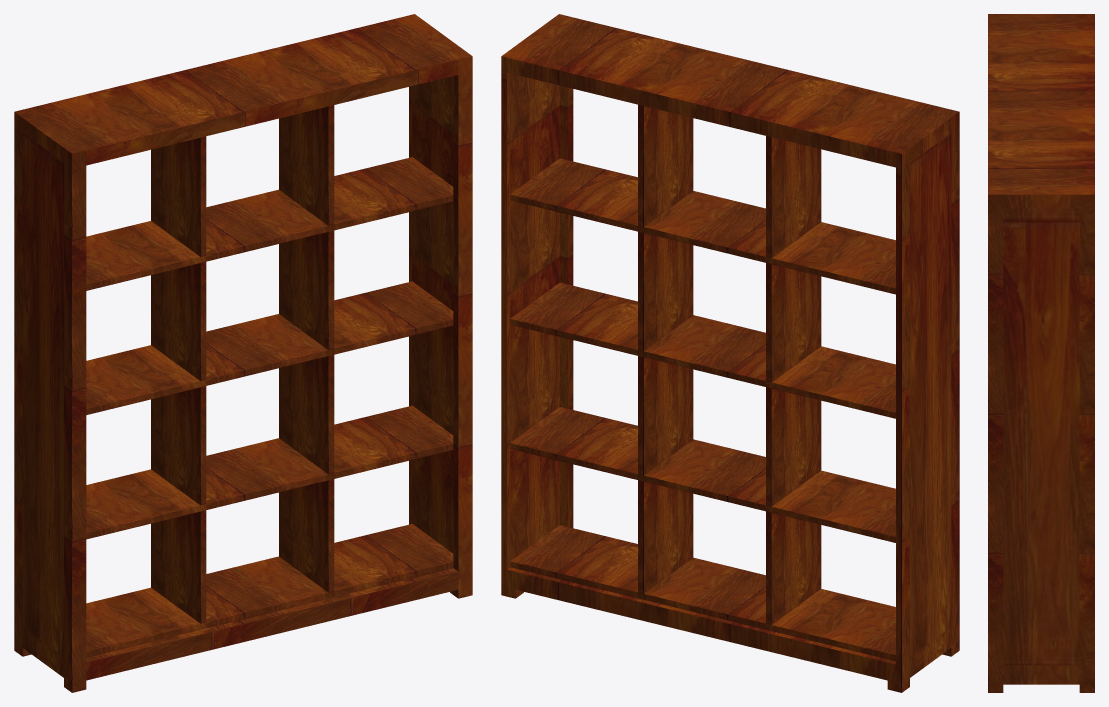
The model's file is kare_shelf.dae.
3 renders of one model, left to right at view 1: azimuth 30°, elevation 25°; view 2: azimuth 150°, elevation 25°; view 3: azimuth 270°, elevation 25°, orthographic. The views are drawn at different scales.
Parts seen in each view (by area): view 1: KARE__Latino_Memat_09, Group1, Group2, Group3, Group4, Group11, Group8, Group12, Group10, Group5, Group7, Group9 (+1 smaller); view 2: KARE__Latino_Memat_09, Group2, Group1, Group4, Group3, Group11, Group8, Group10, Group12, Group5, Group7, Group9 (+1 smaller); view 3: KARE__Latino_Memat_09.
Boxes of the visible parts, bbox=[...] form: KARE__Latino_Memat_09: bbox=[14, 14, 472, 692]; Group1: bbox=[86, 405, 453, 539]; Group2: bbox=[86, 524, 453, 657]; Group3: bbox=[86, 157, 453, 290]; Group4: bbox=[86, 281, 453, 414]; Group11: bbox=[279, 105, 334, 225]; Group8: bbox=[151, 136, 206, 256]; Group12: bbox=[279, 230, 334, 349]; Group10: bbox=[279, 355, 334, 474]; Group5: bbox=[151, 386, 206, 505]; Group7: bbox=[151, 262, 206, 381]; Group9: bbox=[279, 479, 334, 592]; KARE__Latino_Memat_09: bbox=[501, 14, 959, 692]; Group2: bbox=[510, 525, 895, 661]; Group1: bbox=[510, 407, 895, 542]; Group4: bbox=[510, 282, 895, 418]; Group3: bbox=[510, 158, 895, 294]; Group11: bbox=[638, 104, 693, 226]; Group8: bbox=[766, 136, 821, 257]; Group10: bbox=[638, 356, 693, 475]; Group12: bbox=[638, 231, 693, 351]; Group5: bbox=[766, 387, 821, 506]; Group7: bbox=[766, 263, 821, 382]; Group9: bbox=[638, 480, 693, 593]; KARE__Latino_Memat_09: bbox=[988, 14, 1094, 692].
Size of the model in its own units: 140 by 35 by 180.
Materials: 1 (1 with a texture image).
